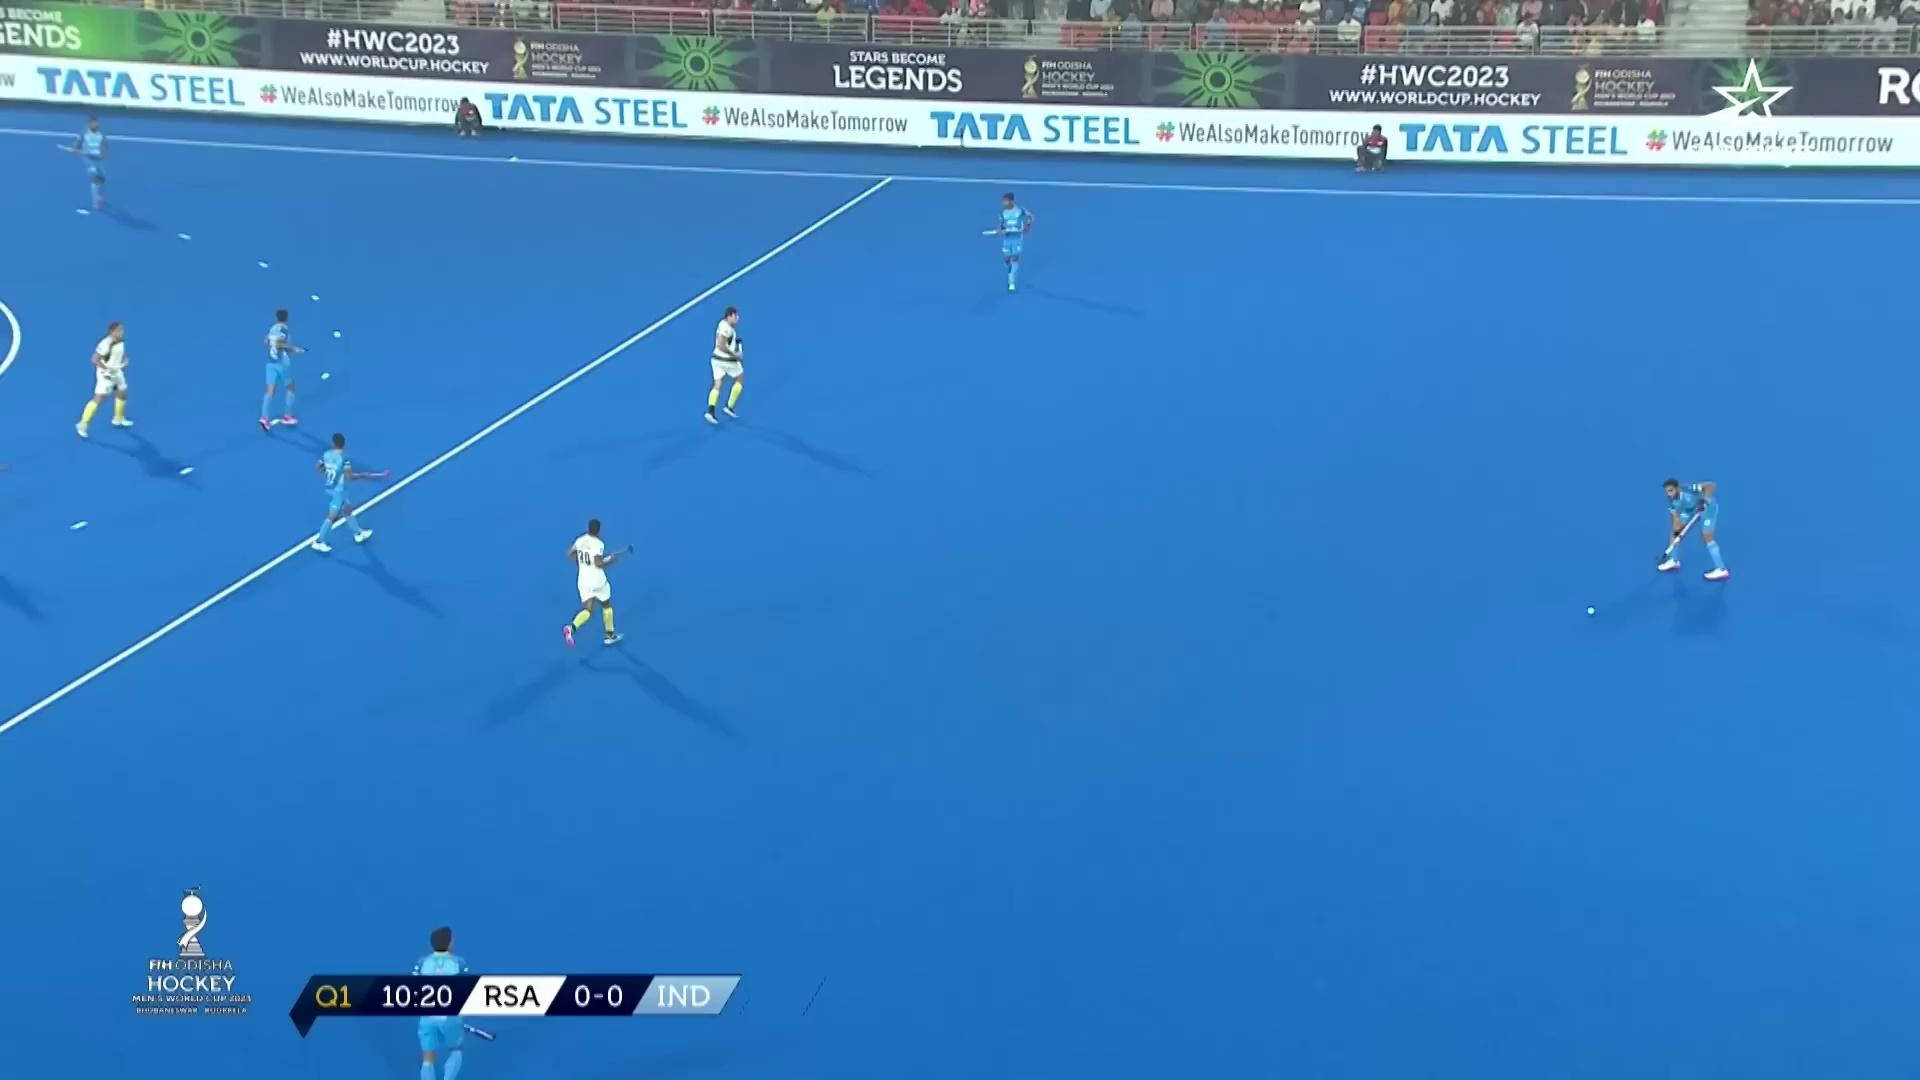ball: (1568, 597, 1610, 628)
